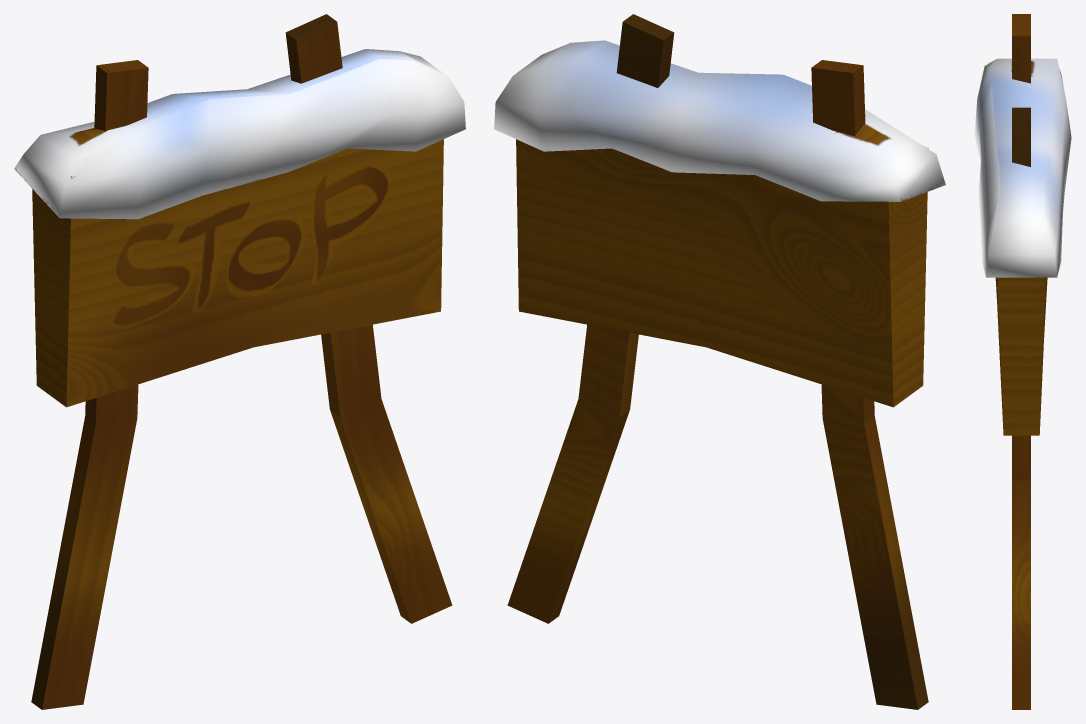
File: Stop.fbx
3 renders of one model, left to right at view 1: azimuth 30°, elevation 25°; view 2: azimuth 150°, elevation 25°; view 3: azimuth 270°, elevation 25°, orthographic. The views are drawn at different scales.
Visible parts, largest first — view 1: Stop; view 2: Stop; view 3: Stop.
Boxes of the visible parts, box(x1,y1,x2,y2) form: Stop: box(14, 14, 465, 709); Stop: box(494, 14, 945, 709); Stop: box(974, 14, 1071, 709).
Bounding box in the file's own units: 2.67 × 3.89 × 0.6179.
1 material, 1 textured.
